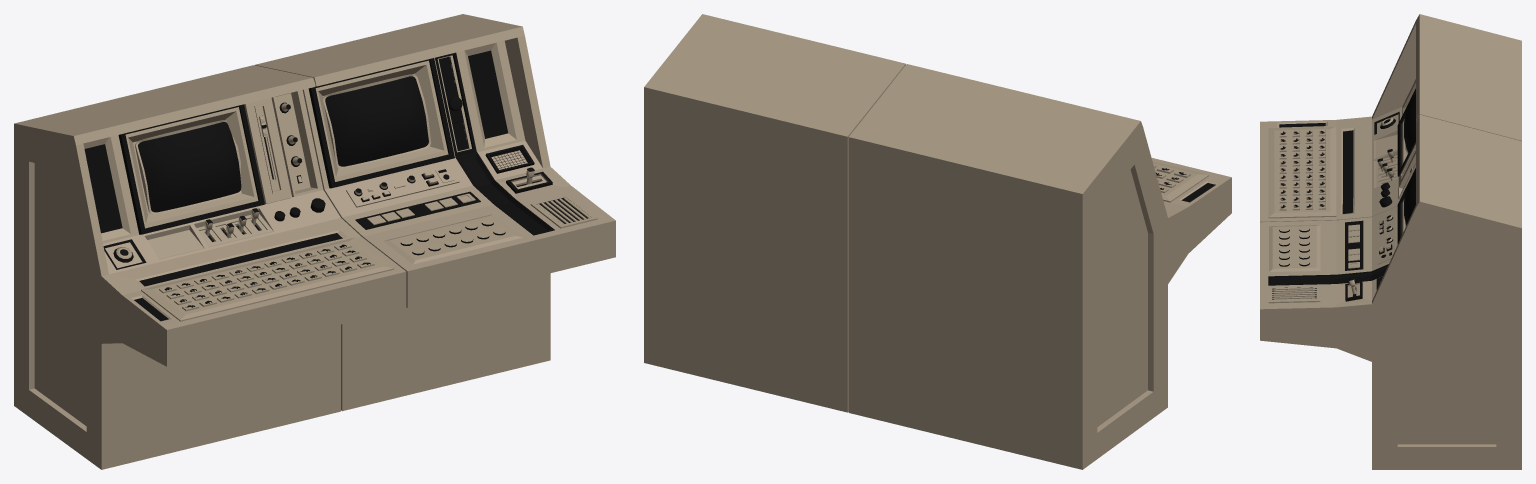
File: Control_panel.glb
3 views of the same model, side by side, from view 1: azimuth 30°, elevation 25°; view 2: azimuth 150°, elevation 25°; view 3: azimuth 270°, elevation 25° (orthographic). The views are drawn at different scales.
Visible parts, largest first — view 1: Control_panel; view 2: Control_panel; view 3: Control_panel.
Boxes of the visible parts, x1,y1,x2,y2 form: Control_panel: (14, 14, 615, 469); Control_panel: (644, 14, 1231, 469); Control_panel: (1260, 14, 1521, 469).
Size of the model in its own units: 2.18 by 1.45 by 1.28.
